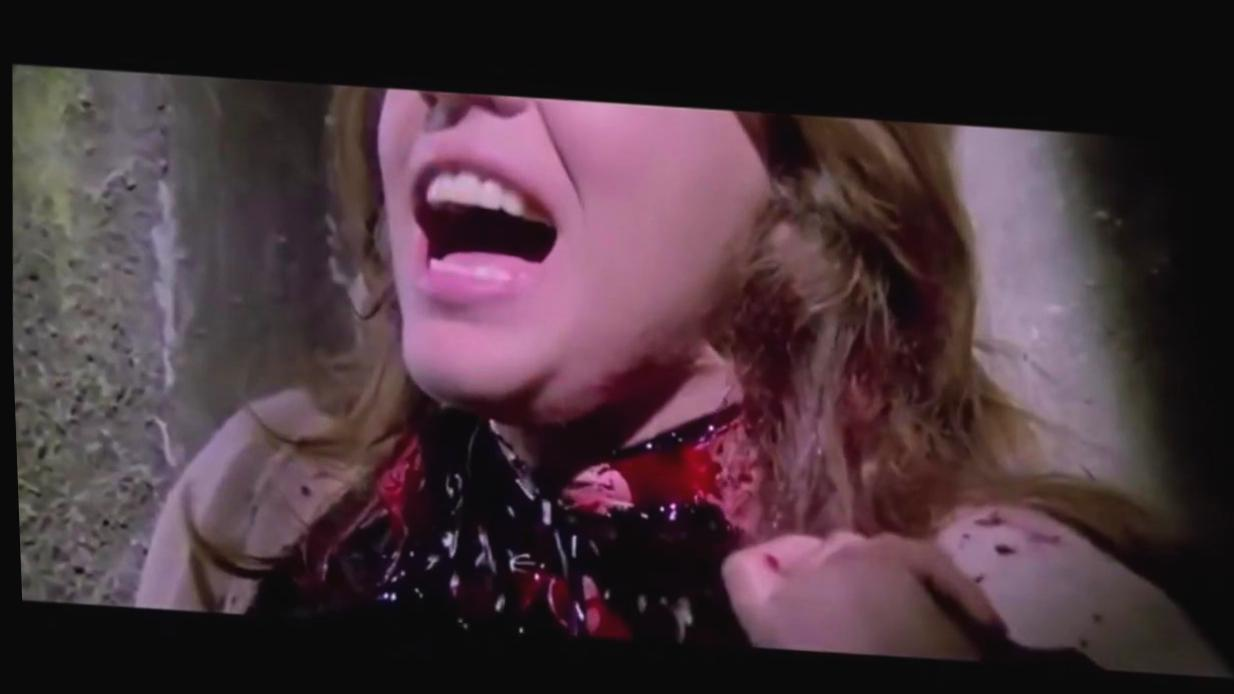Fire: (243, 397, 758, 643)
